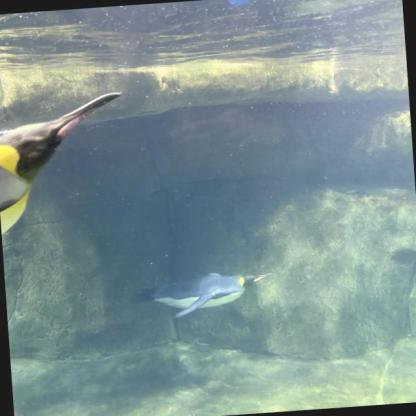penguin: (0, 90, 134, 252), (130, 268, 275, 321)
